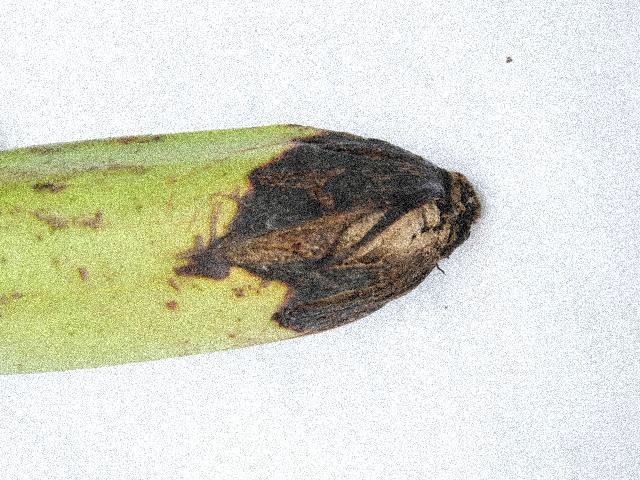rotten: (153, 96, 496, 358)
unripe: (0, 105, 203, 416)
